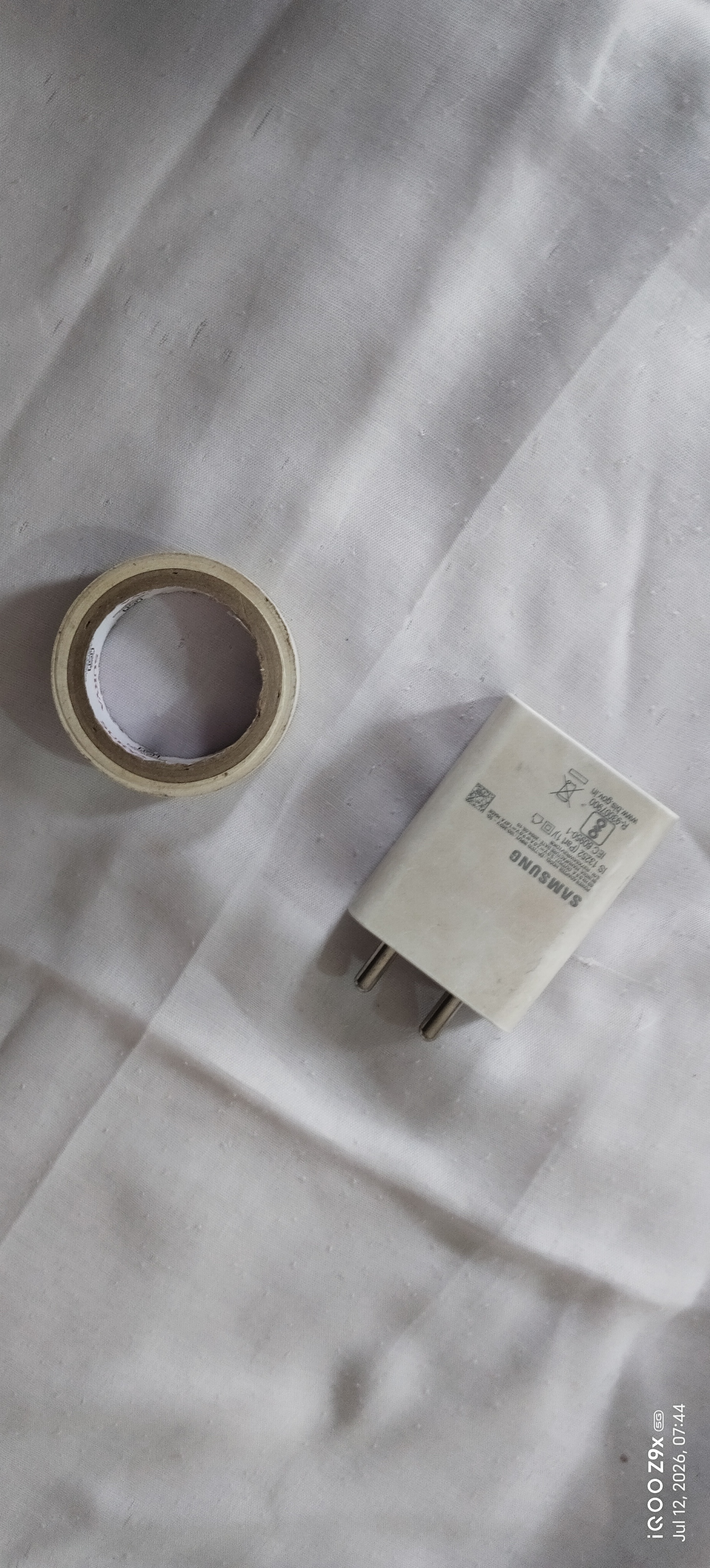charger: (330, 670, 684, 1053)
tape_roll: (32, 536, 318, 811)
